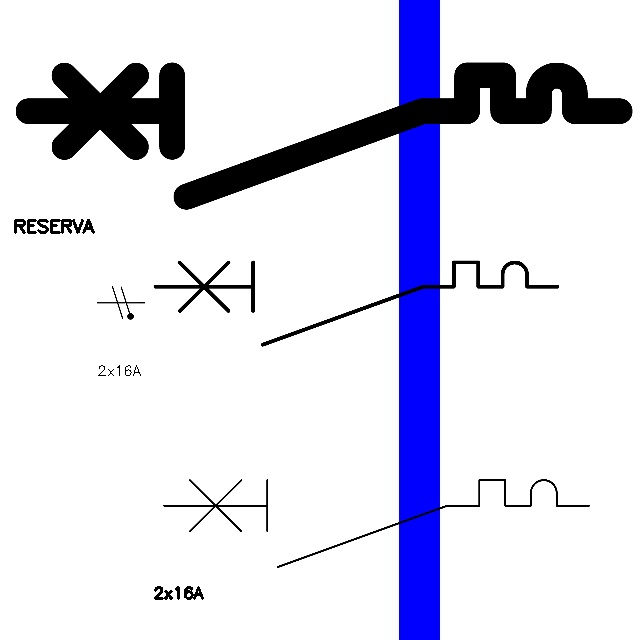interruptor_termomagnetico: (13, 60, 635, 212), (153, 469, 600, 578), (144, 252, 567, 355)
